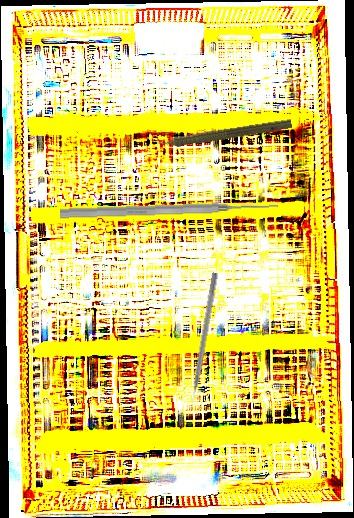Handpiece: (149, 113, 293, 153)
Pusher: (59, 199, 279, 221), (186, 271, 219, 411)
